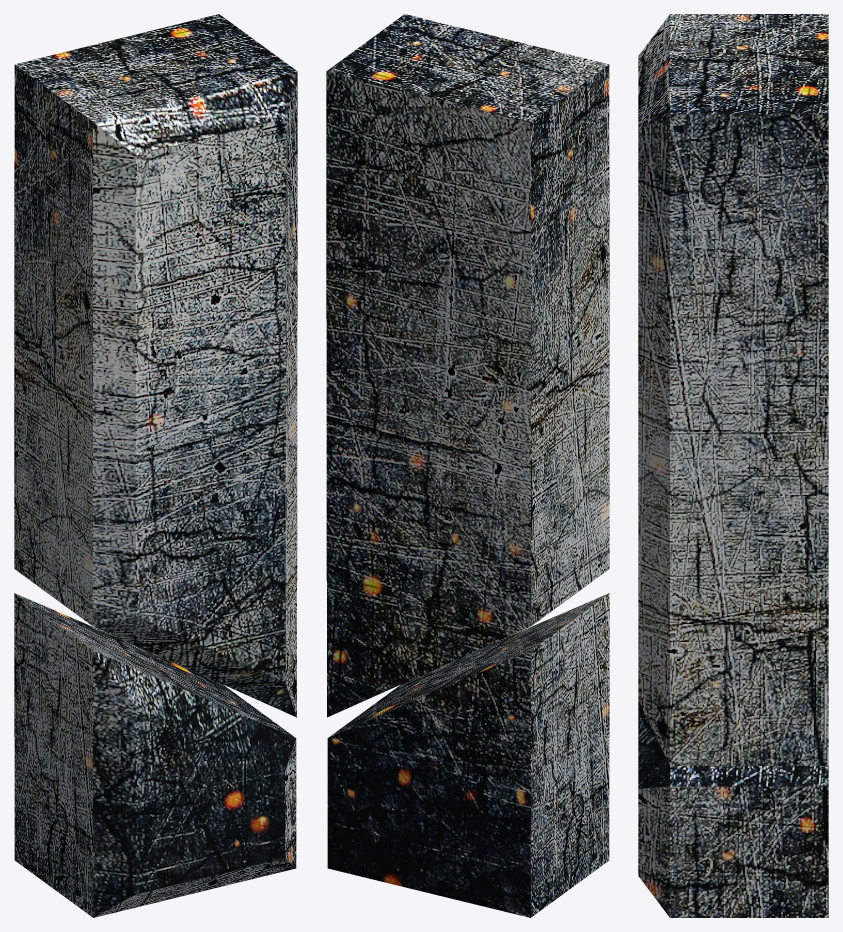
3 renders of one model, left to right at view 1: azimuth 30°, elevation 25°; view 2: azimuth 150°, elevation 25°; view 3: azimuth 270°, elevation 25°, orthographic.
Parts seen in each view (by area): view 1: I; view 2: I; view 3: I.
Boxes of the visible parts, x1,y1,x2,y2 form: I: (14, 14, 297, 917); I: (326, 14, 609, 917); I: (638, 14, 828, 917).
Bounding box in the file's own units: 15.06 × 55.92 × 12.
1 material, 1 textured.
